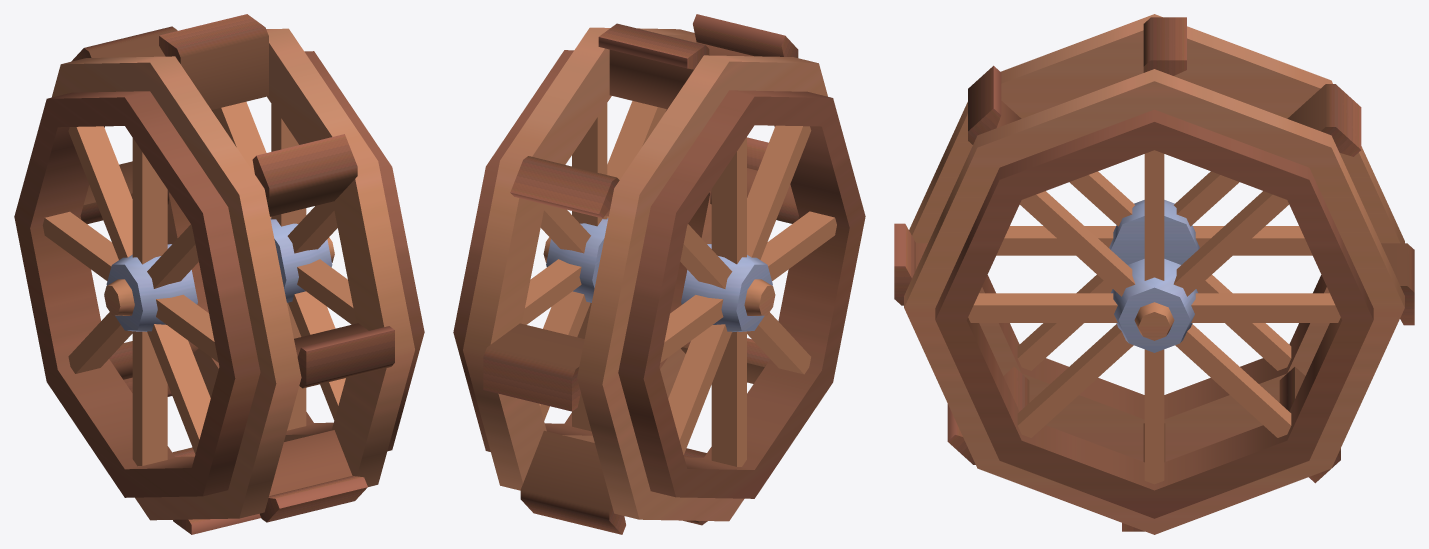
The model's file is watermill.glb.
The picture shows the model from 3 angles, left to right: view 1: azimuth 30°, elevation 25°; view 2: azimuth 150°, elevation 25°; view 3: azimuth 270°, elevation 25°; orthographic projection.
Visible parts, largest first — view 1: watermill; view 2: watermill; view 3: watermill.
Boxes of the visible parts, bbox=[...] form: watermill: bbox=[14, 14, 424, 534]; watermill: bbox=[453, 14, 865, 534]; watermill: bbox=[894, 14, 1414, 534].
Bounding box in the file's own units: 0.85 × 1.8 × 1.8.
Materials: 1 (1 with a texture image).
